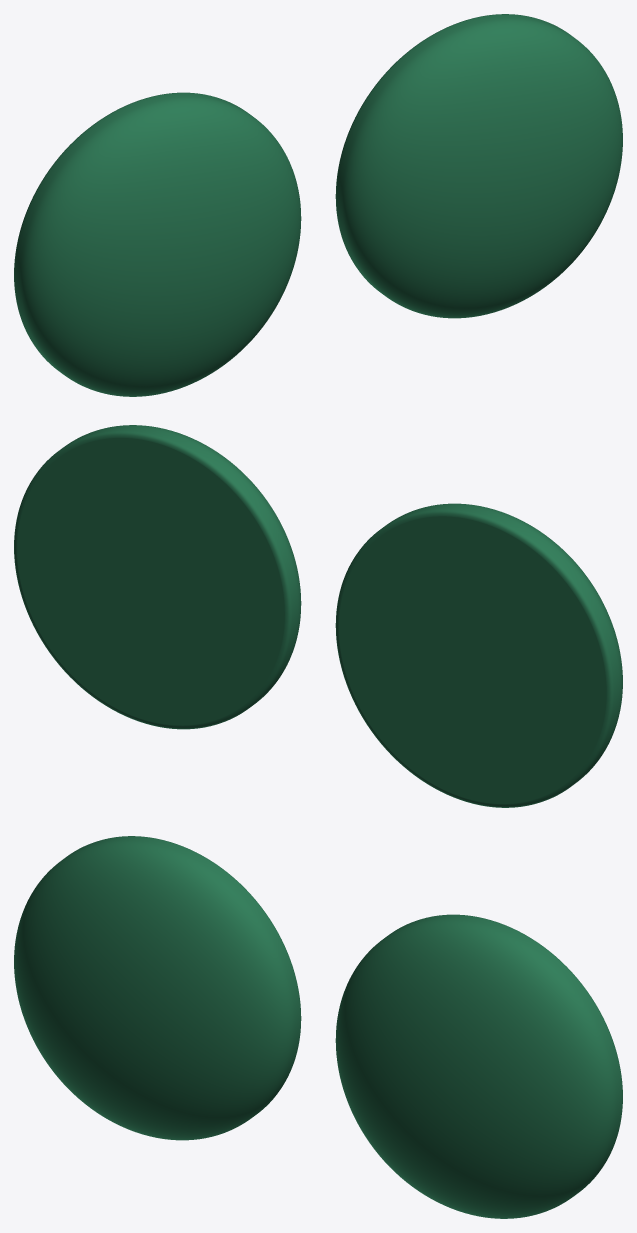
Rendered from matched-pair-v1.glb.
3 views of the same model, one above another, from view 1: azimuth 30°, elevation 25°; view 2: azimuth 150°, elevation 25°; view 3: azimuth 330°, elevation 25° (orthographic).
Parts seen in each view (by area): view 1: Round Cabochon 16x16x4mm, Round Cabochon 16x16x4mm.001; view 2: Round Cabochon 16x16x4mm.001, Round Cabochon 16x16x4mm; view 3: Round Cabochon 16x16x4mm.001, Round Cabochon 16x16x4mm.
Boxes of the visible parts, left/top/right/bottom form: Round Cabochon 16x16x4mm: left=14, top=92, right=301, bottom=396; Round Cabochon 16x16x4mm.001: left=335, top=14, right=622, bottom=318; Round Cabochon 16x16x4mm.001: left=14, top=425, right=301, bottom=729; Round Cabochon 16x16x4mm: left=335, top=503, right=622, bottom=807; Round Cabochon 16x16x4mm.001: left=335, top=914, right=622, bottom=1218; Round Cabochon 16x16x4mm: left=14, top=836, right=301, bottom=1140.
Size of the model in its own units: 0.0346 by 0.016 by 0.00398.
